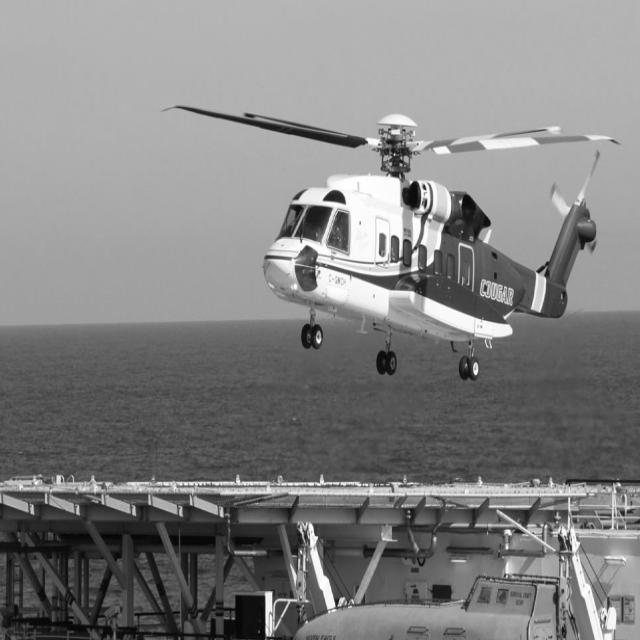helicopter: (168, 103, 621, 386)
